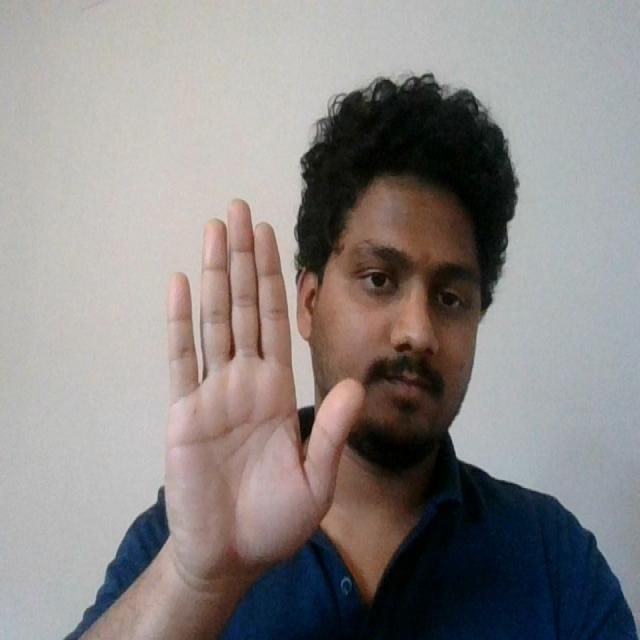Hello: (155, 190, 371, 586)
